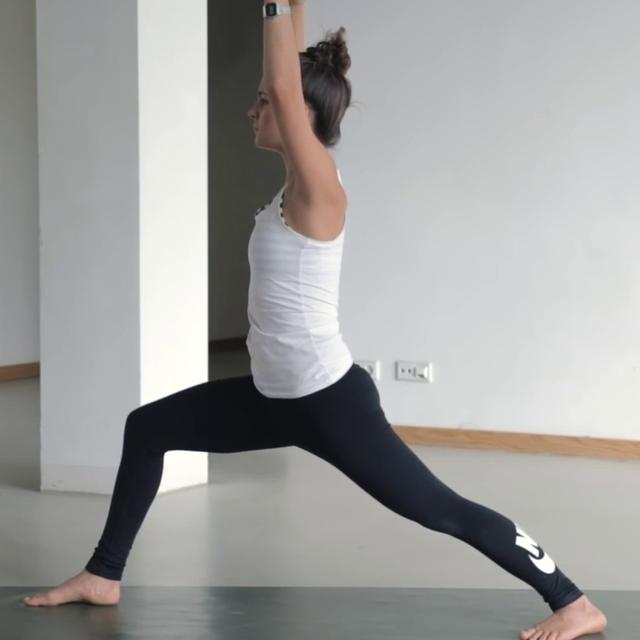Warrior_I: (6, 1, 613, 638)
